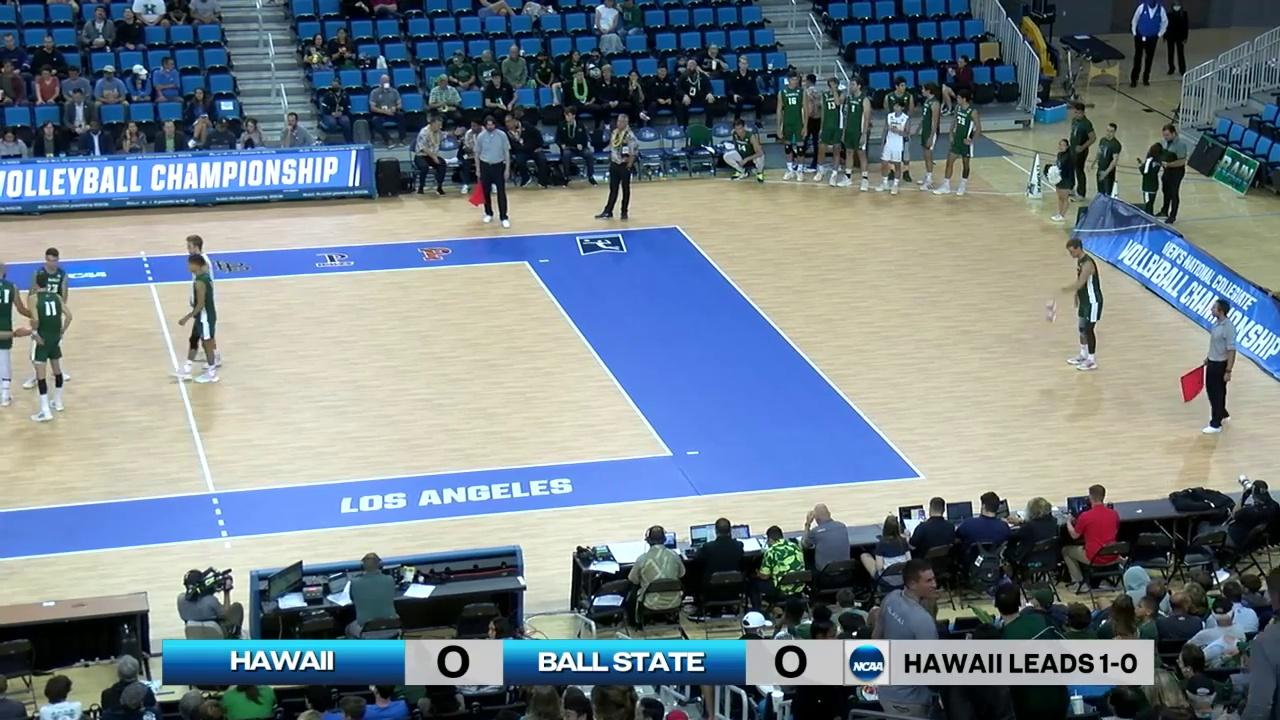player: (25, 247, 71, 388), (174, 255, 220, 383), (28, 275, 67, 420), (1063, 240, 1105, 373), (185, 235, 218, 367), (0, 262, 19, 407)
refree: (1192, 294, 1241, 436), (471, 116, 511, 223)
